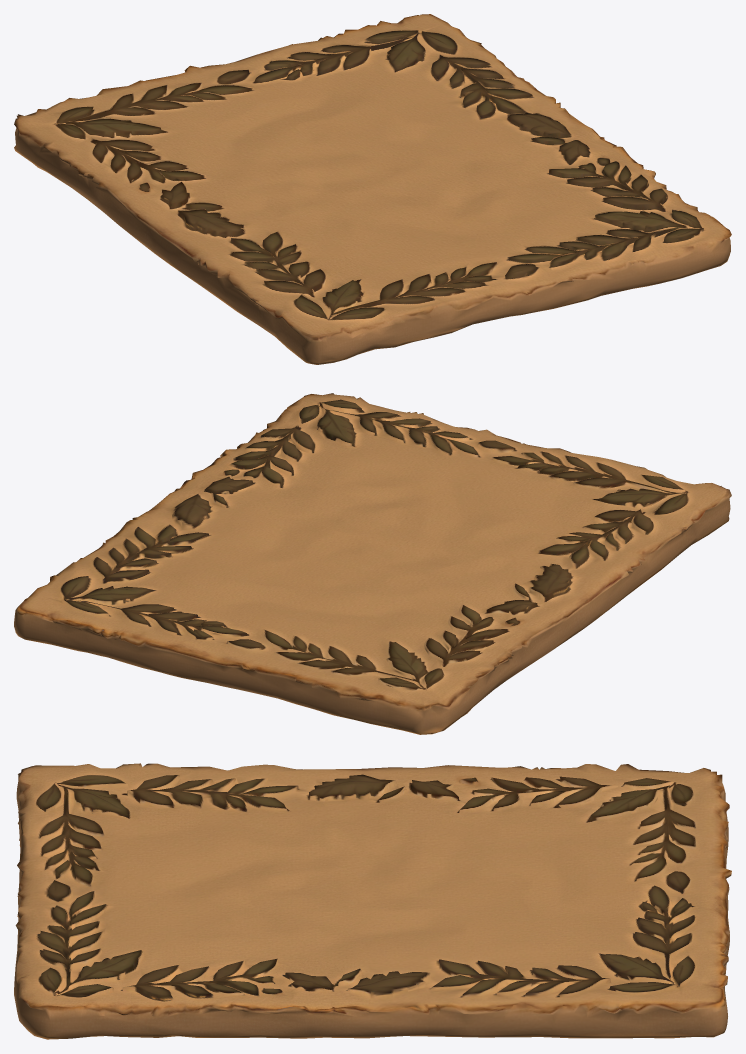
Rendered from kit_door_mat.glb.
3 views of the same model, one above another, from view 1: azimuth 30°, elevation 25°; view 2: azimuth 150°, elevation 25°; view 3: azimuth 270°, elevation 25° (orthographic). The views are drawn at different scales.
Parts seen in each view (by area): view 1: tripo_node_1104891e-2242-4dbe-b615-cce39dfe141d; view 2: tripo_node_1104891e-2242-4dbe-b615-cce39dfe141d; view 3: tripo_node_1104891e-2242-4dbe-b615-cce39dfe141d.
Part boxes in pixels (x1,y1,x2,y2): tripo_node_1104891e-2242-4dbe-b615-cce39dfe141d: [14, 14, 731, 364]; tripo_node_1104891e-2242-4dbe-b615-cce39dfe141d: [14, 393, 731, 734]; tripo_node_1104891e-2242-4dbe-b615-cce39dfe141d: [14, 763, 731, 1039].
Bounding box in the file's own units: 0.8075 × 0.0663 × 1.
Materials: 1 (1 with a texture image).
